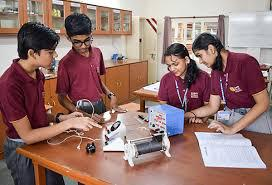Person: (3, 27, 56, 171), (197, 32, 272, 132), (62, 14, 108, 114), (150, 49, 197, 111)
